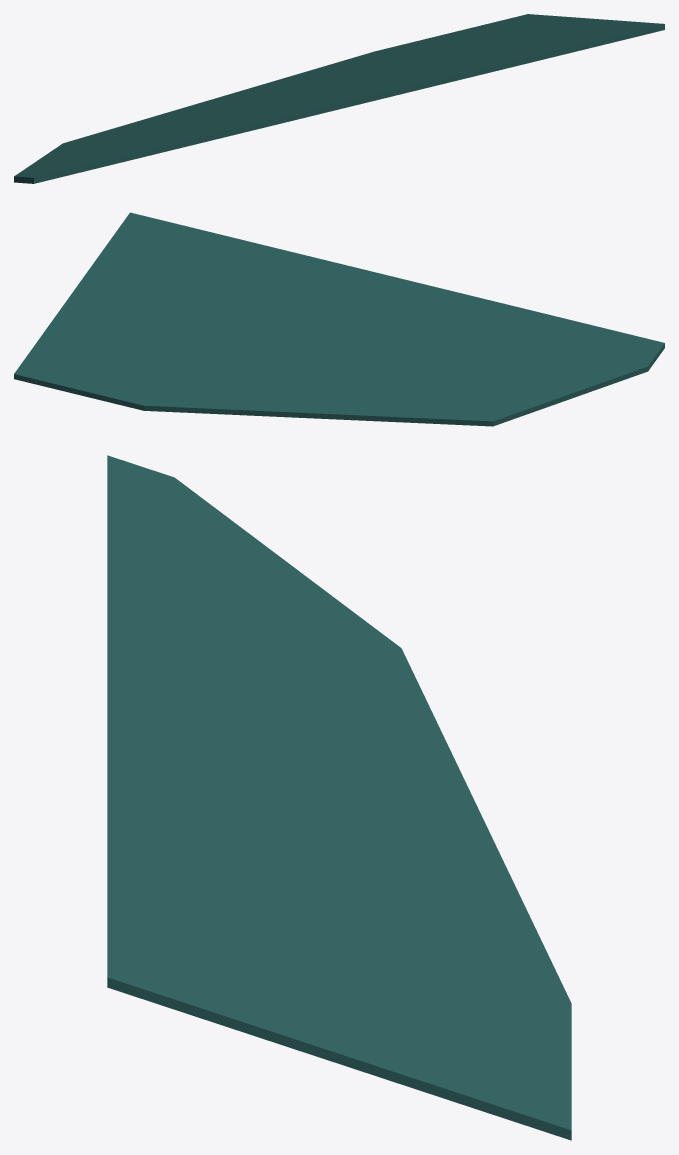
3 views of the same model, one above another, from view 1: azimuth 30°, elevation 25°; view 2: azimuth 150°, elevation 25°; view 3: azimuth 270°, elevation 25° (orthographic). The views are drawn at different scales.
Parts seen in each view (by area): view 1: ROOF-A3-2; view 2: ROOF-A3-2; view 3: ROOF-A3-2.
Boxes of the visible parts, bbox=[...] form: ROOF-A3-2: bbox=[14, 14, 664, 183]; ROOF-A3-2: bbox=[14, 212, 664, 426]; ROOF-A3-2: bbox=[107, 455, 571, 1140].
Size of the model in its own units: 8.75 by 1.28 by 3.29.
